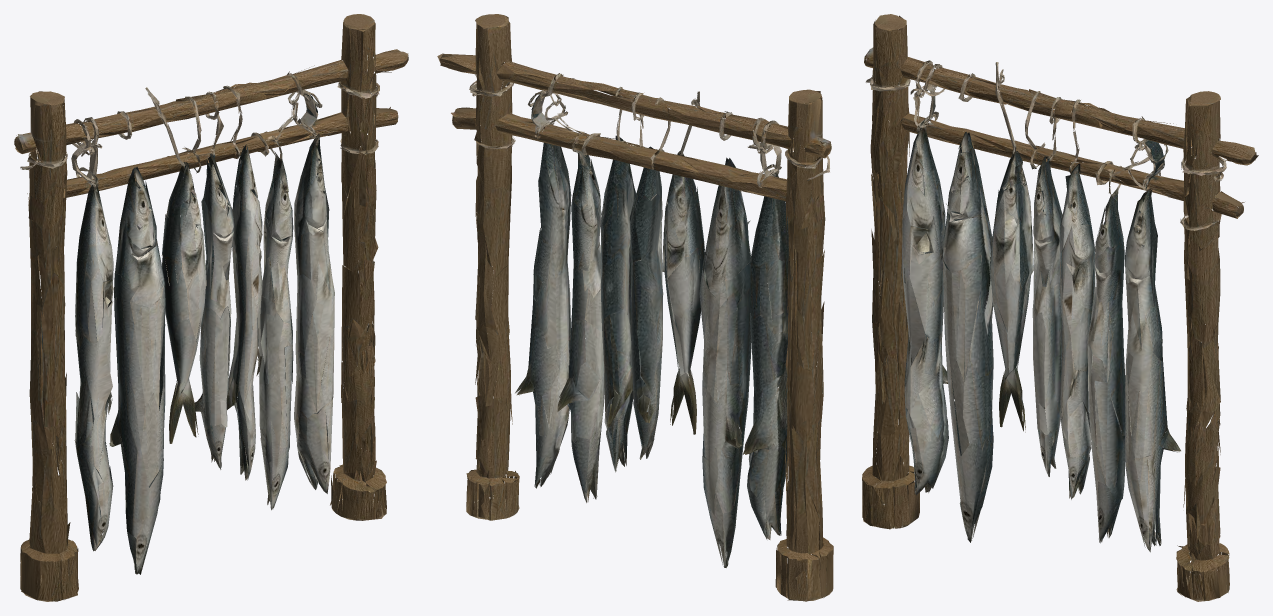
Rendered from drying_rack.glb.
3 renders of one model, left to right at view 1: azimuth 30°, elevation 25°; view 2: azimuth 150°, elevation 25°; view 3: azimuth 330°, elevation 25°, orthographic.
Parts seen in each view (by area): view 1: Mesh_0; view 2: Mesh_0; view 3: Mesh_0.
Part boxes in pixels (left/top/right/bottom): Mesh_0: left=14, top=14, right=408, bottom=601; Mesh_0: left=437, top=14, right=833, bottom=601; Mesh_0: left=862, top=14, right=1258, bottom=601.
Size of the model in its own units: 1.82 by 2.2 by 0.2828.
1 material, 1 textured.
